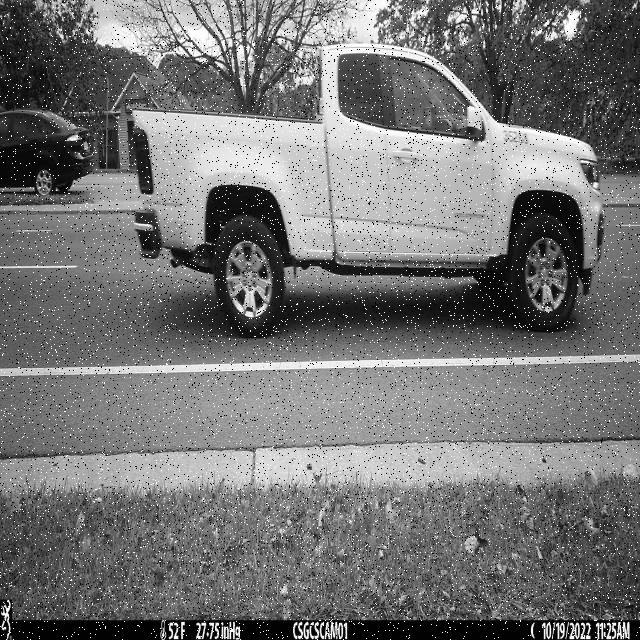Pickup: (130, 44, 605, 341)
